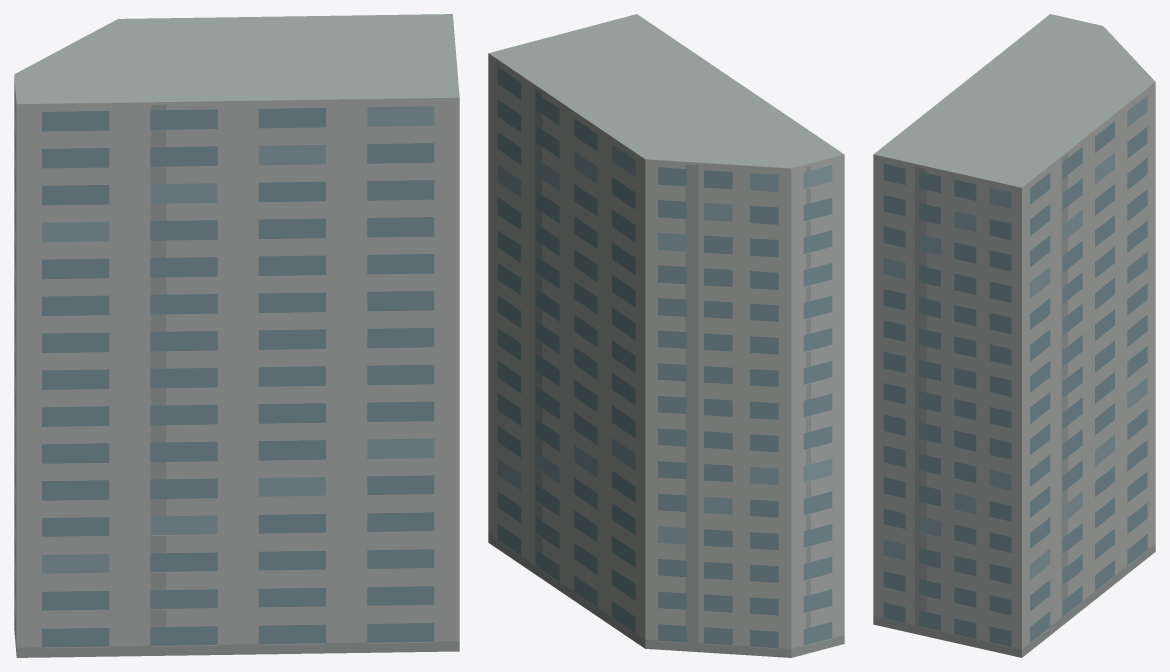
The model's file is residential-0b434335-15c2-4099-bcf2-6a58b826d85c.glb.
3 renders of one model, left to right at view 1: azimuth 30°, elevation 25°; view 2: azimuth 150°, elevation 25°; view 3: azimuth 270°, elevation 25°, orthographic. The views are drawn at different scales.
Visible parts, largest first — view 1: residential-0b434335-15c2-4099-bcf2-6a58b826d85c.tmp; view 2: residential-0b434335-15c2-4099-bcf2-6a58b826d85c.tmp; view 3: residential-0b434335-15c2-4099-bcf2-6a58b826d85c.tmp.
Part boxes in pixels (box(x1,y1,x2,y2)): residential-0b434335-15c2-4099-bcf2-6a58b826d85c.tmp: box(14, 14, 459, 657); residential-0b434335-15c2-4099-bcf2-6a58b826d85c.tmp: box(488, 14, 844, 657); residential-0b434335-15c2-4099-bcf2-6a58b826d85c.tmp: box(873, 14, 1155, 657).
Size of the model in its own units: 36.48 by 46 by 25.02.
